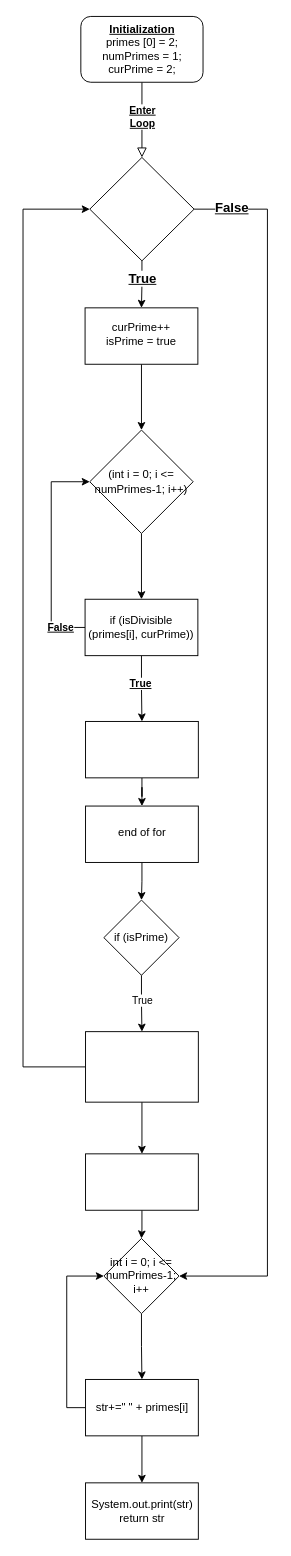
This 291x1556 diagram has some shape labels left out. The shapes that lost their labels are listed below. From the top down, each one's centre as x and y in pixels, then its label:
At (141,209): "while (numPrimes < n)".
At (141,749): "isPrime = false break".
At (141,1066): "primes[numPrimes] = curPrime numPrimes++".
At (141,1181): "End of while".
